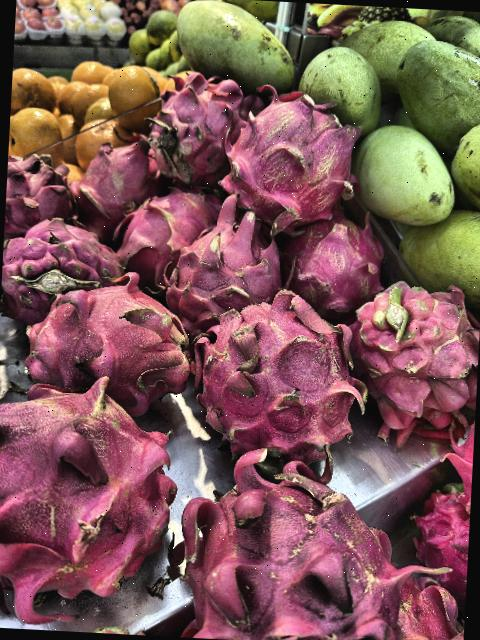buah-naga-belum-matang: (0, 371, 177, 612), (33, 278, 189, 398)
buah-naga-matang: (170, 447, 405, 640), (182, 288, 359, 443), (352, 278, 480, 431), (234, 92, 362, 234), (0, 213, 141, 321), (278, 202, 392, 314), (170, 206, 274, 316), (142, 69, 230, 187), (68, 130, 166, 234), (107, 184, 206, 282), (4, 154, 74, 230)
